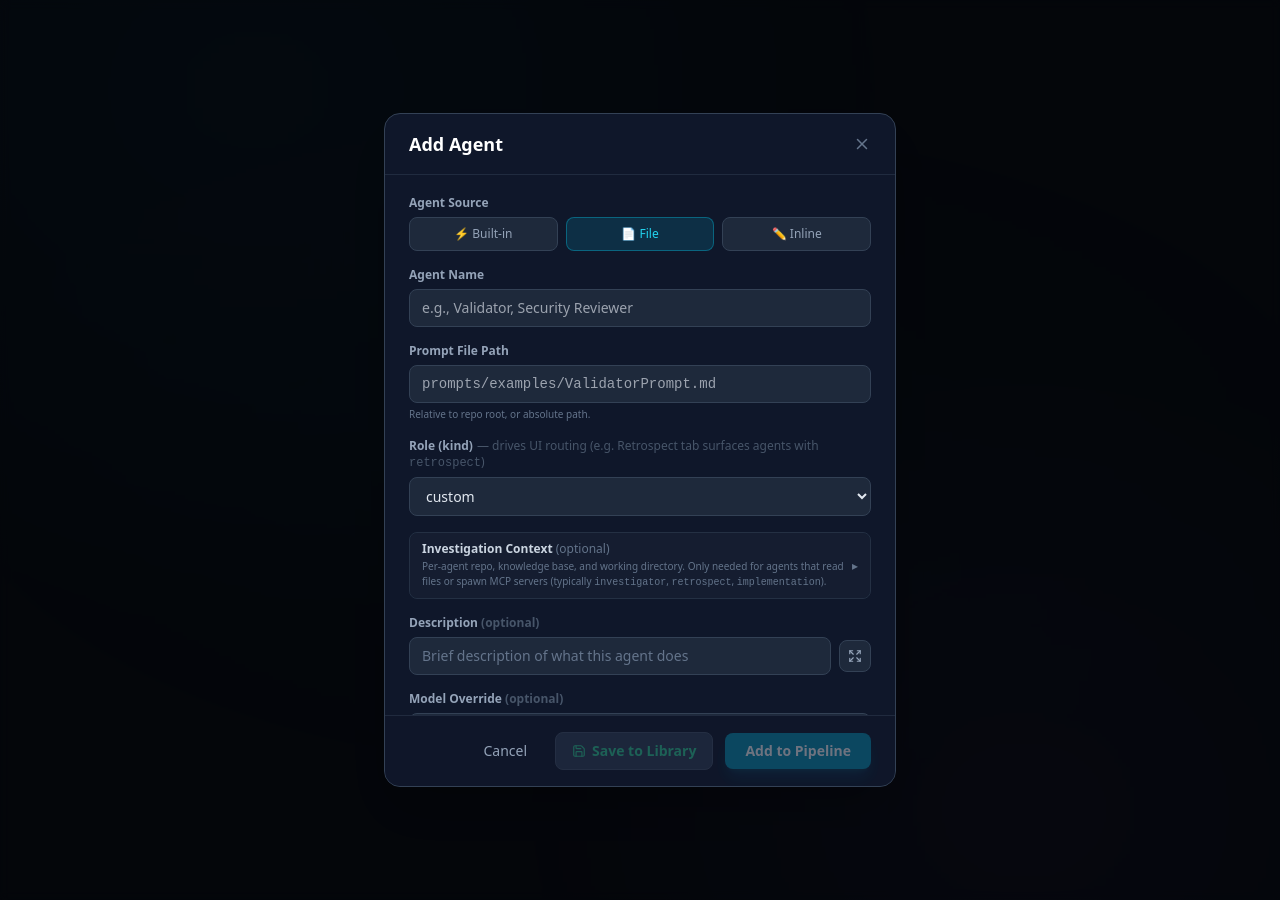
Test case: AgentModal — source switching › switches to builtin source and shows the built-in selector
The width and height of the screenshot is (1280, 900).
Step 1. Click the button "⚡ Built-in" → (483, 234), box x1=409 y1=217 x2=558 y2=251
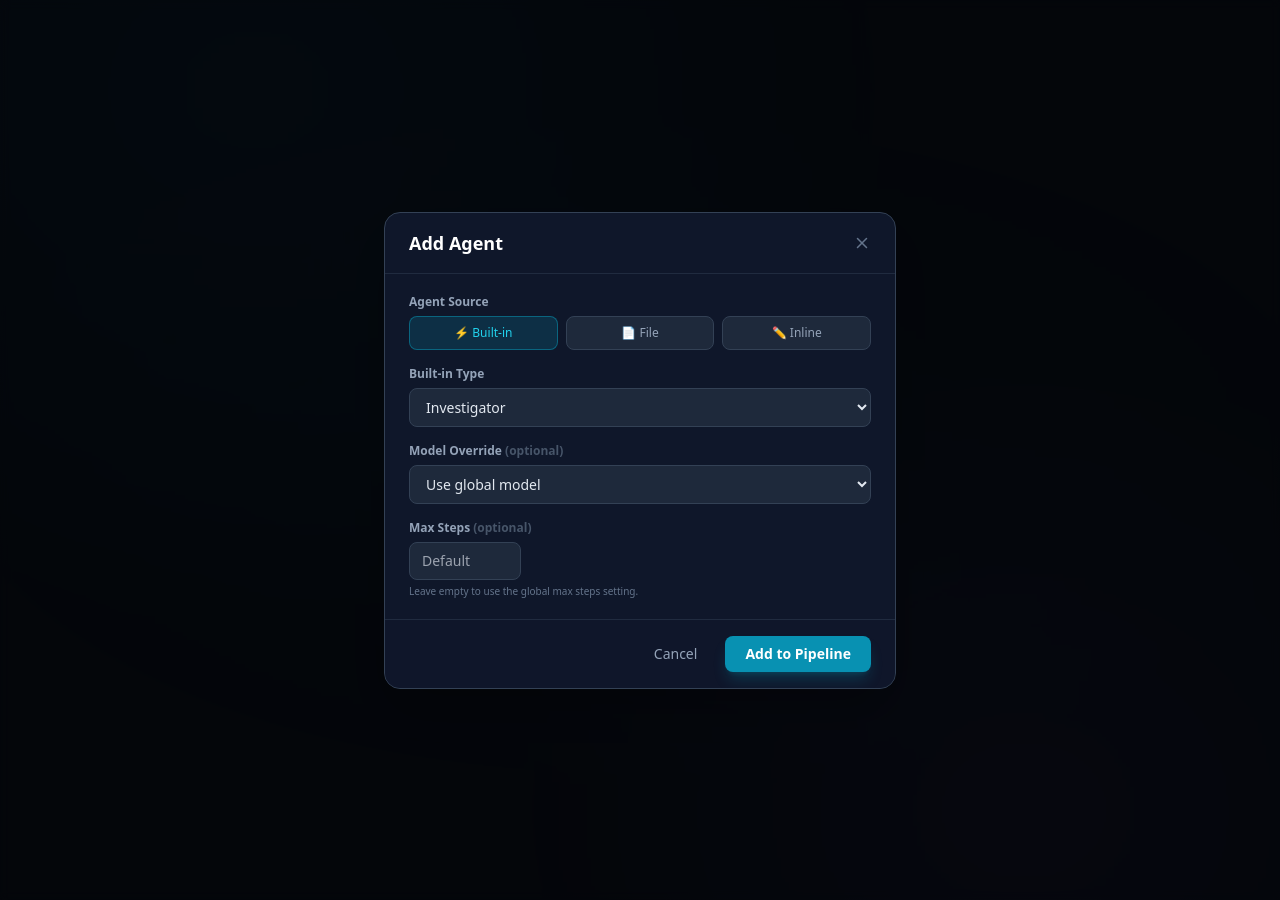
Expected: the text "Built-in Type" is shown, x1=409 y1=364 x2=484 y2=382
